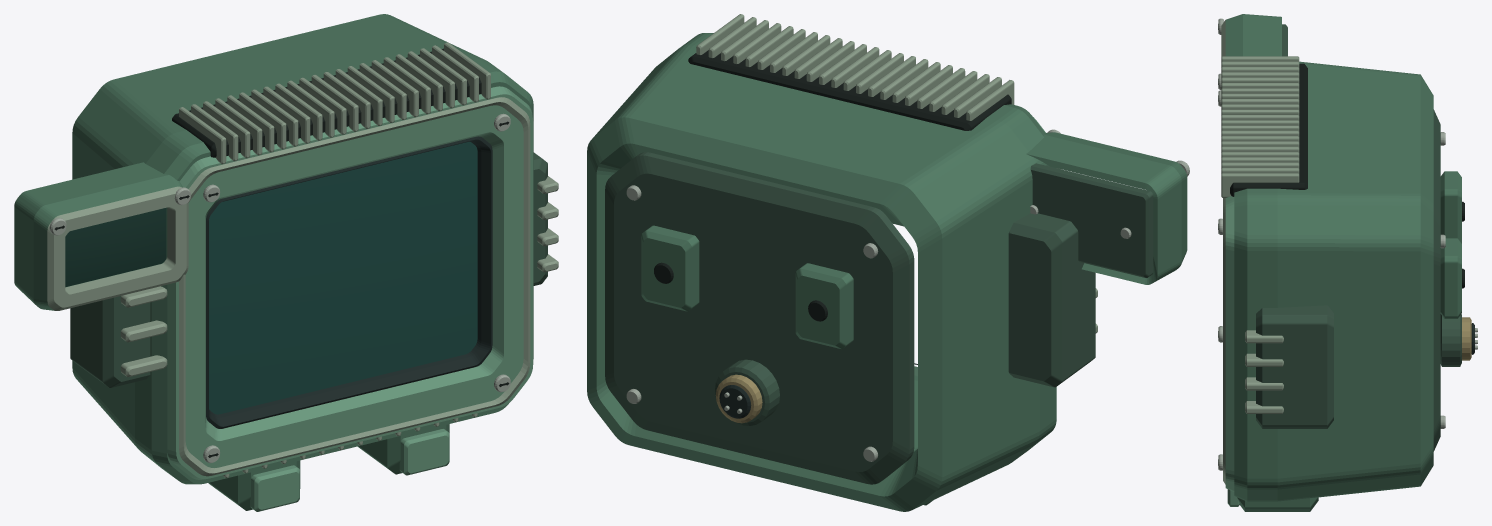
File: ToolPanel.glb
3 renders of one model, left to right at view 1: azimuth 30°, elevation 25°; view 2: azimuth 150°, elevation 25°; view 3: azimuth 270°, elevation 25°, orthographic. The views are drawn at different scales.
Parts seen in each view (by area): view 1: Casing, Screen_Display, Counter_Display; view 2: Casing; view 3: Casing.
Part boxes in pixels (left/top/right/bottom): Casing: left=14, top=14, right=558, bottom=511; Screen_Display: left=209, top=141, right=477, bottom=414; Counter_Display: left=65, top=208, right=166, bottom=287; Casing: left=587, top=14, right=1189, bottom=511; Casing: left=1218, top=14, right=1477, bottom=511.
Bounding box in the file's own units: 0.3528 × 0.25 × 0.1665.
